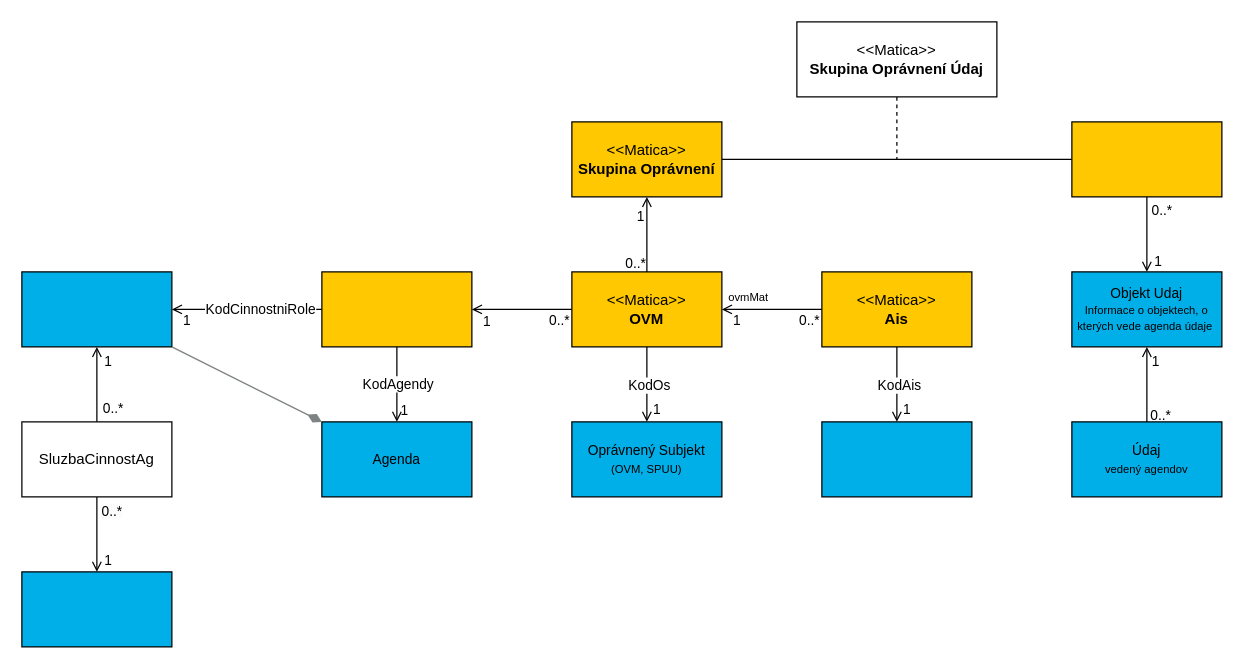
This 1244x669 diagram has some shape labels left out. Each missing label, with the box of its shape:
<<Matica>> Oprávnení Údaj: (1071, 121, 1222, 197)
<<Matica>> Činnosť: (321, 271, 472, 347)
Agendovy IS CAgendovyInfSystem ISVS / SSVÚ: (821, 421, 972, 497)
Služba: (21, 571, 172, 647)
Činnosť Agendy: (21, 271, 172, 347)
